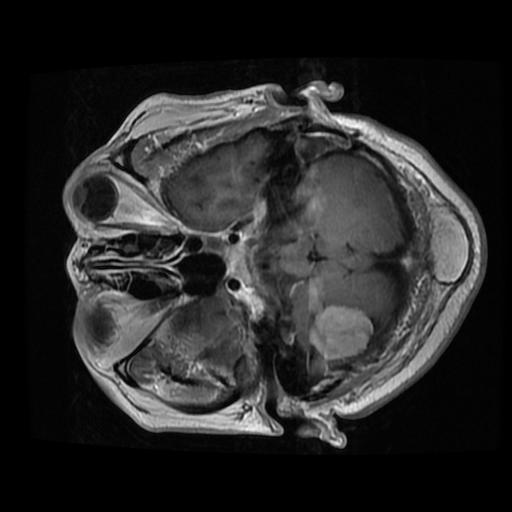meningioma: (312, 301, 369, 356)
